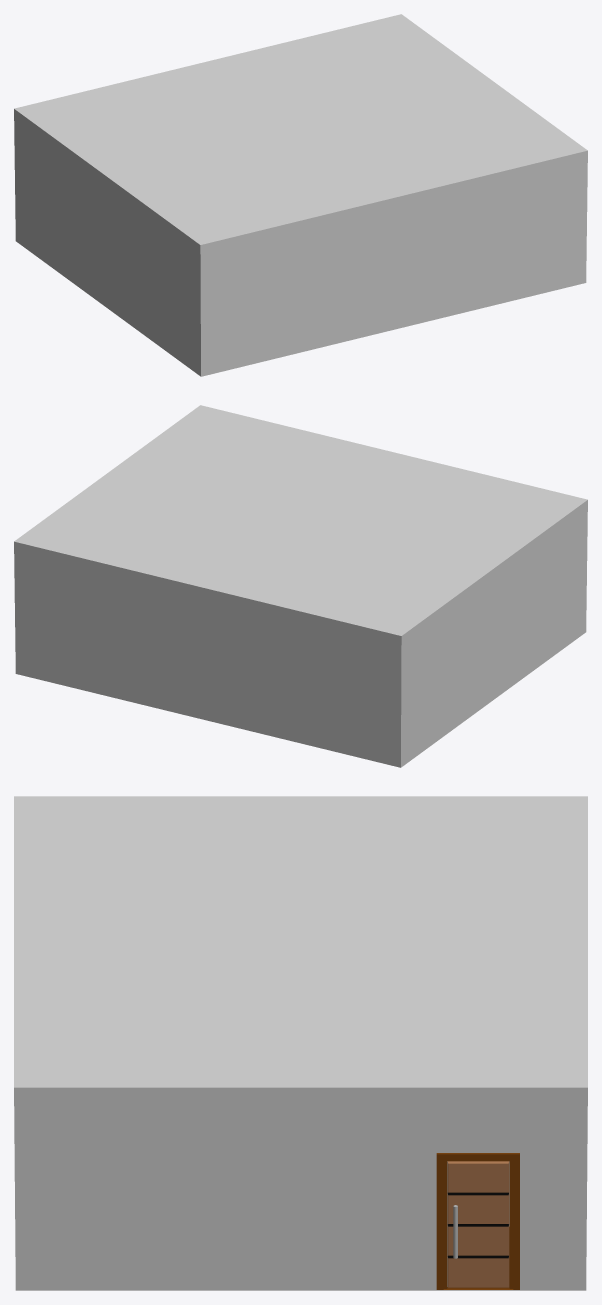
Rendered from area dalam kantor.fbx.
3 renders of one model, top to bottom at view 1: azimuth 30°, elevation 25°; view 2: azimuth 150°, elevation 25°; view 3: azimuth 270°, elevation 25°, orthographic. The views are drawn at different scales.
Visible parts, largest first — view 1: area kantor; view 2: area kantor; view 3: area kantor, area kantor.001.
Part boxes in pixels (left/top/right/bottom): area kantor: left=14, top=14, right=587, bottom=376; area kantor: left=14, top=405, right=587, bottom=767; area kantor: left=14, top=796, right=587, bottom=1290; area kantor.001: left=436, top=1153, right=519, bottom=1289.
Size of the model in its own units: 1262 by 406 by 1035.
